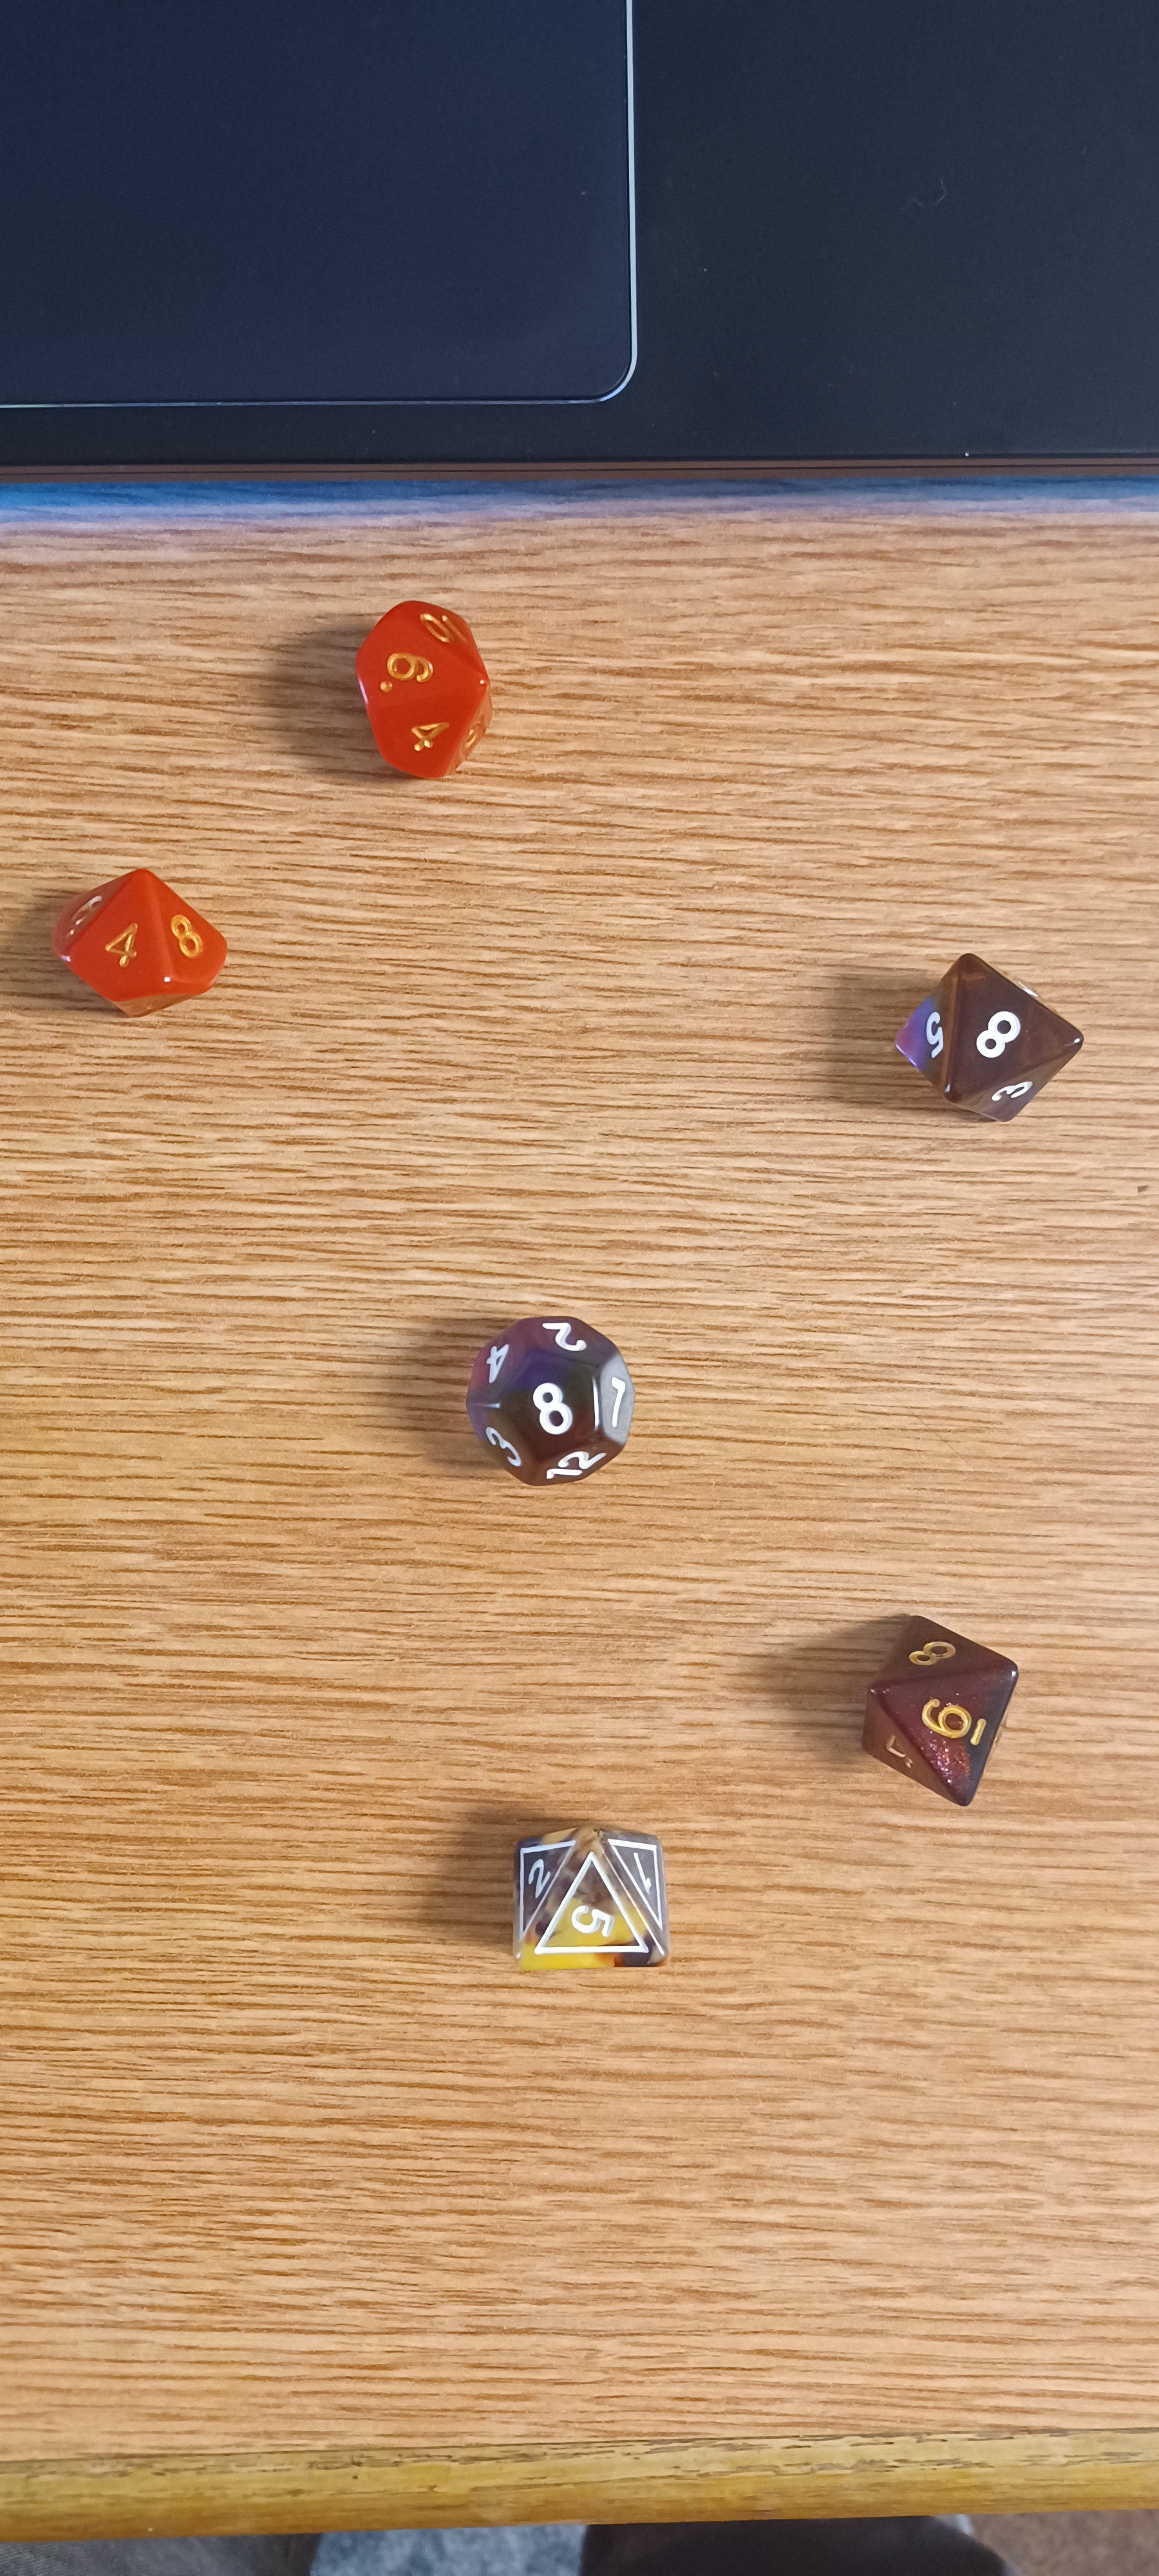eight: (872, 910, 1121, 1166), (435, 1293, 648, 1500)
five: (463, 1797, 709, 2021)
four: (30, 835, 253, 1032)
six: (831, 1567, 1036, 1830), (312, 573, 527, 792)
